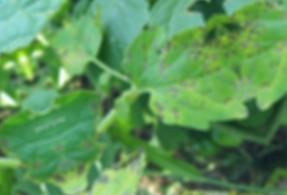Tomato Septoria leaf spot: (106, 0, 257, 158), (72, 105, 287, 195)
